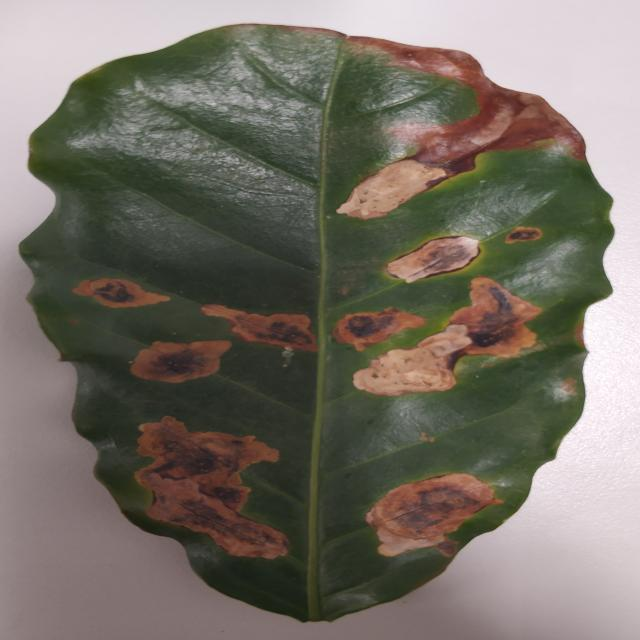Plaga-Minador: (16, 23, 617, 625)
